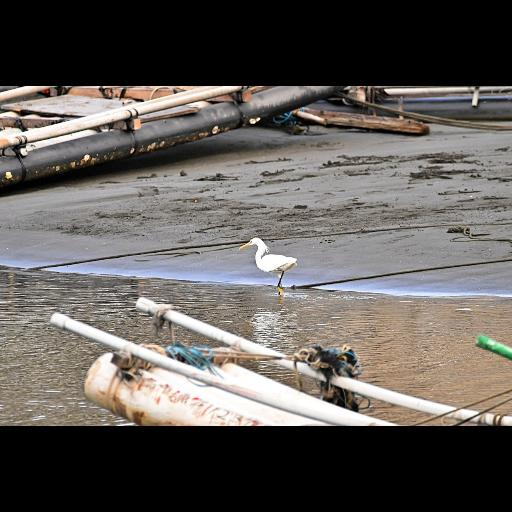chinese_egret: (238, 238, 298, 298)
